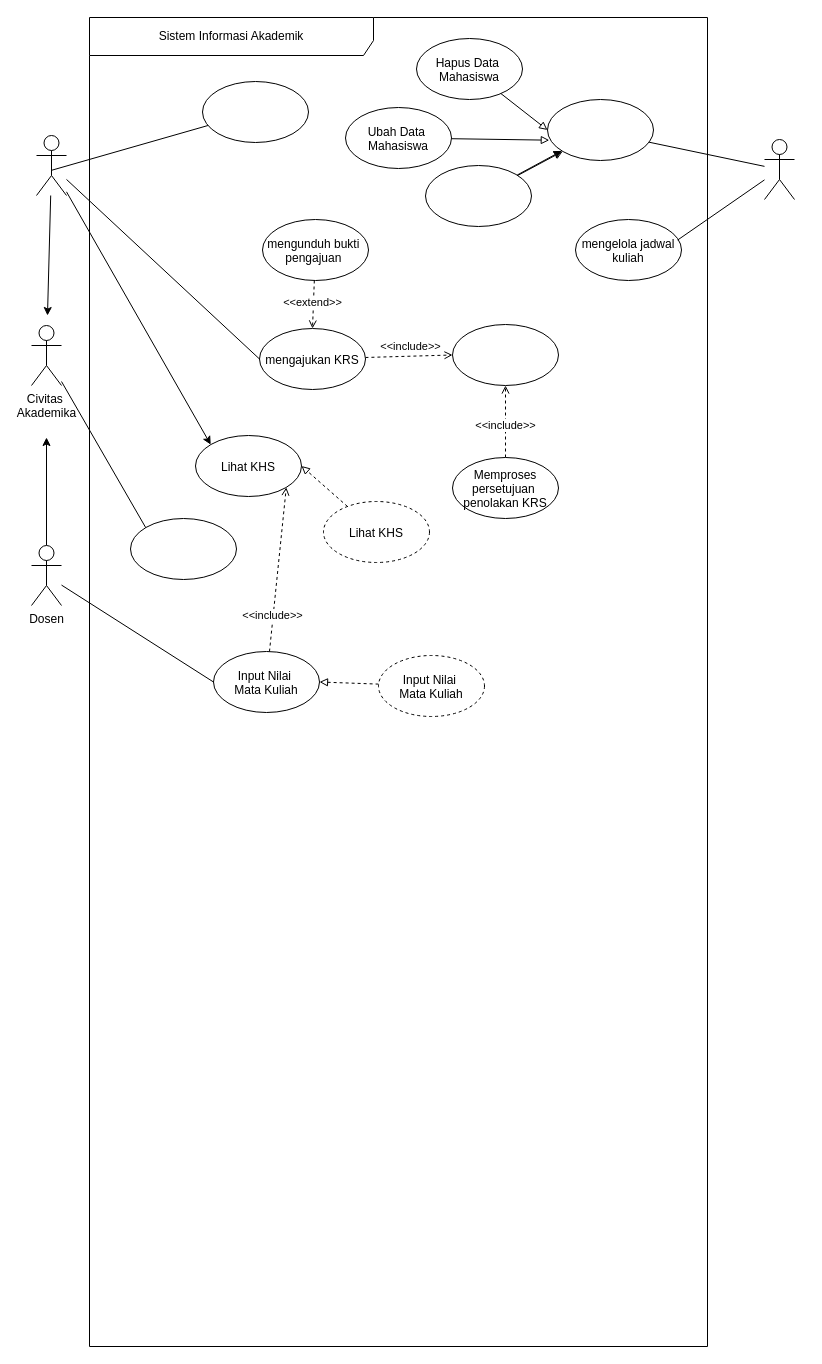
Some shapes in this 822 by 1364 pixel diagram are drawn without their labels. Here are the shapes that lost their labels. From the top down, the box of each, then its label:
(202, 80, 308, 142): Melihat jadwal kuliah
(546, 98, 654, 160): Kelola Data Mahasiswa
(36, 134, 66, 196): Mahasiswa
(764, 138, 794, 200): Admin akademik
(424, 164, 532, 226): Tambah Data Mahasiswa
(452, 324, 558, 386): memvalidasi KRS
(130, 518, 236, 580): Lihat kalender akademik
